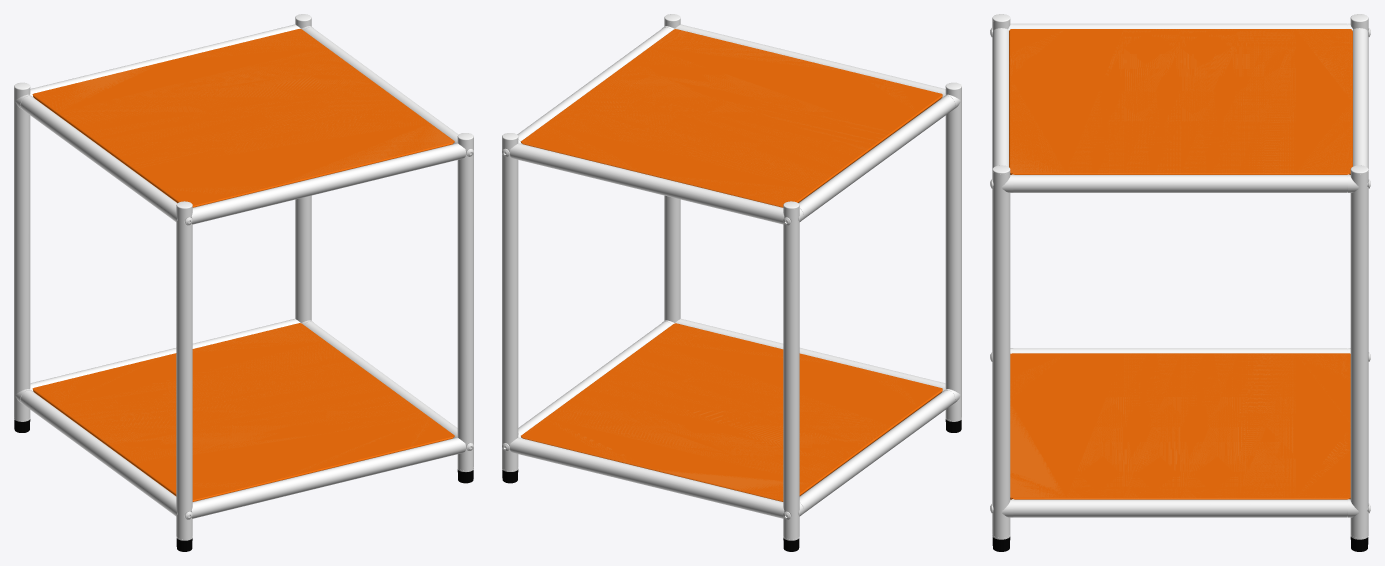
Rendered from 40x40x40-2-1-orange.glb.
3 renders of one model, left to right at view 1: azimuth 30°, elevation 25°; view 2: azimuth 150°, elevation 25°; view 3: azimuth 270°, elevation 25°, orthographic. The views are drawn at different scales.
Parts seen in each view (by area): view 1: 直角鐵板-40x40-5 - 零件, 直角鐵板-40x40-3 - 零件, 鐵管-1層-40-正常腳-32mm-5 - 零件, 鐵管-1層-40-正常腳-32mm-4 - 零件, 鏡射鐵管-1層-40-正常腳-32mm-2 - 零件, 消水孔鐵管-40深-2 - 零件, 消水孔鐵管-40深-1 - 零件, 反-鐵管-40-354..4-15 - 零件, 反-鐵管-40-354..4-18 - 零件, 鏡射鐵管-1層-40-正常腳-32mm-1 - 零件, 鏡射消水孔鐵管-40深-2 - 零件, 反-鐵管-40-354..4-17 - 零件 (+2 smaller); view 2: 直角鐵板-40x40-5 - 零件, 直角鐵板-40x40-3 - 零件, 鏡射鐵管-1層-40-正常腳-32mm-2 - 零件, 鏡射鐵管-1層-40-正常腳-32mm-1 - 零件, 鐵管-1層-40-正常腳-32mm-5 - 零件, 鏡射消水孔鐵管-40深-2 - 零件, 鏡射消水孔鐵管-40深-1 - 零件, 反-鐵管-40-354..4-15 - 零件, 反-鐵管-40-354..4-18 - 零件, 鐵管-1層-40-正常腳-32mm-4 - 零件, 消水孔鐵管-40深-2 - 零件, 消水孔鐵管-40深-1 - 零件 (+2 smaller); view 3: 直角鐵板-40x40-5 - 零件, 直角鐵板-40x40-3 - 零件, 鐵管-1層-40-正常腳-32mm-4 - 零件, 鏡射鐵管-1層-40-正常腳-32mm-1 - 零件, 反-鐵管-40-354..4-1 - 零件, 反-鐵管-40-354..4-17 - 零件, 消水孔鐵管-40深-2 - 零件, 鏡射消水孔鐵管-40深-2 - 零件, 反-鐵管-40-354..4-15 - 零件, 反-鐵管-40-354..4-18 - 零件.
Part boxes in pixels (<box>): 直角鐵板-40x40-5 - 零件: <box>32,29,454,207</box>; 直角鐵板-40x40-3 - 零件: <box>32,323,454,501</box>; 鐵管-1層-40-正常腳-32mm-5 - 零件: <box>176,206,192,539</box>; 鐵管-1層-40-正常腳-32mm-4 - 零件: <box>457,138,473,470</box>; 鏡射鐵管-1層-40-正常腳-32mm-2 - 零件: <box>14,87,30,420</box>; 消水孔鐵管-40深-2 - 零件: <box>191,143,465,224</box>; 消水孔鐵管-40深-1 - 零件: <box>191,437,465,518</box>; 反-鐵管-40-354..4-15 - 零件: <box>21,390,176,514</box>; 反-鐵管-40-354..4-18 - 零件: <box>20,96,177,219</box>; 鏡射鐵管-1層-40-正常腳-32mm-1 - 零件: <box>295,19,311,322</box>; 鏡射消水孔鐵管-40深-2 - 零件: <box>30,24,300,97</box>; 反-鐵管-40-354..4-17 - 零件: <box>304,27,458,144</box>; 直角鐵板-40x40-5 - 零件: <box>521,29,942,207</box>; 直角鐵板-40x40-3 - 零件: <box>521,323,942,501</box>; 鏡射鐵管-1層-40-正常腳-32mm-2 - 零件: <box>783,207,799,539</box>; 鏡射鐵管-1層-40-正常腳-32mm-1 - 零件: <box>502,138,518,470</box>; 鐵管-1層-40-正常腳-32mm-5 - 零件: <box>945,88,961,420</box>; 鏡射消水孔鐵管-40深-2 - 零件: <box>510,143,784,224</box>; 鏡射消水孔鐵管-40深-1 - 零件: <box>510,437,784,518</box>; 反-鐵管-40-354..4-15 - 零件: <box>799,390,955,514</box>; 反-鐵管-40-354..4-18 - 零件: <box>798,96,955,219</box>; 鐵管-1層-40-正常腳-32mm-4 - 零件: <box>664,19,680,322</box>; 消水孔鐵管-40深-2 - 零件: <box>675,24,945,98</box>; 消水孔鐵管-40深-1 - 零件: <box>675,318,945,391</box>; 直角鐵板-40x40-5 - 零件: <box>1009,29,1352,174</box>; 直角鐵板-40x40-3 - 零件: <box>1010,353,1350,499</box>; 鐵管-1層-40-正常腳-32mm-4 - 零件: <box>992,171,1010,537</box>; 鏡射鐵管-1層-40-正常腳-32mm-1 - 零件: <box>1350,171,1368,537</box>; 反-鐵管-40-354..4-1 - 零件: <box>1013,499,1347,517</box>; 反-鐵管-40-354..4-17 - 零件: <box>1013,175,1347,192</box>; 消水孔鐵管-40深-2 - 零件: <box>992,28,1008,168</box>; 鏡射消水孔鐵管-40深-2 - 零件: <box>1352,28,1368,168</box>; 反-鐵管-40-354..4-15 - 零件: <box>1013,348,1347,353</box>; 反-鐵管-40-354..4-18 - 零件: <box>1013,23,1347,28</box>.
Size of the model in its own units: 0.3992 by 0.4454 by 0.4036.
